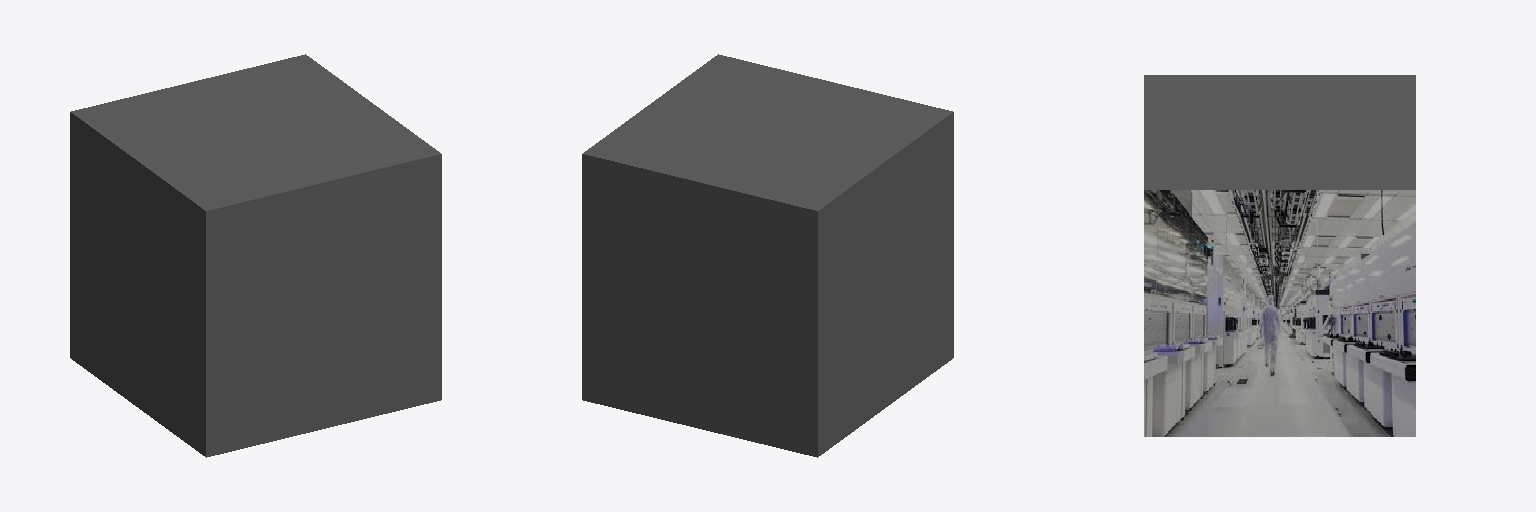
3 renders of one model, left to right at view 1: azimuth 30°, elevation 25°; view 2: azimuth 150°, elevation 25°; view 3: azimuth 270°, elevation 25°, orthographic.
Visible parts, largest first — view 1: Cube.001; view 2: Cube.001; view 3: Cube.001.
Part boxes in pixels (bbox=[...]): Cube.001: bbox=[70, 54, 441, 457]; Cube.001: bbox=[582, 54, 953, 457]; Cube.001: bbox=[1144, 75, 1415, 436].
Bounding box in the file's own units: 2 × 2 × 2.
2 materials, 1 textured.